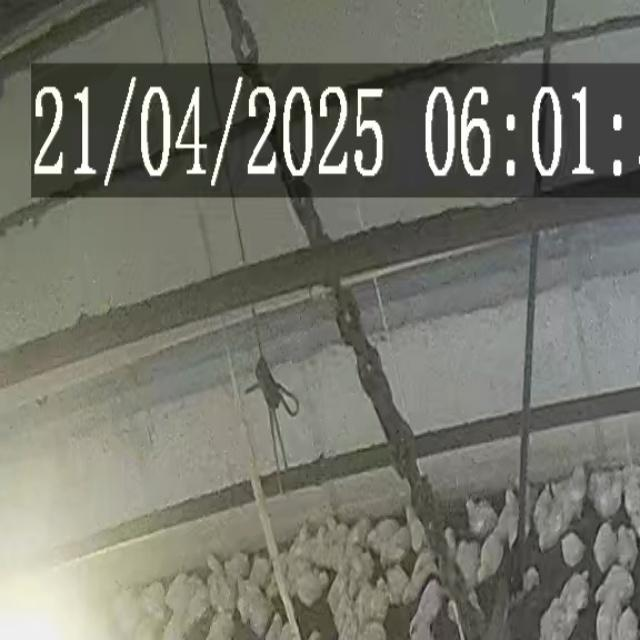chicken: (536, 499, 572, 552), (402, 553, 437, 604), (554, 466, 588, 516), (539, 596, 577, 639), (593, 568, 637, 603), (205, 554, 232, 606), (479, 531, 505, 584), (559, 569, 591, 611), (138, 582, 170, 622), (379, 528, 410, 569), (497, 489, 519, 545), (167, 571, 193, 618), (594, 480, 624, 520), (297, 572, 329, 609), (594, 522, 616, 573), (616, 523, 639, 571), (387, 562, 410, 608), (205, 605, 234, 640), (464, 499, 493, 533), (456, 539, 478, 582), (249, 591, 270, 636), (560, 532, 586, 568), (238, 578, 258, 624), (367, 518, 395, 550), (370, 578, 391, 620), (406, 505, 426, 549), (281, 556, 311, 584), (615, 606, 639, 640), (345, 518, 369, 552), (534, 484, 554, 524), (304, 526, 326, 562), (598, 603, 619, 640), (225, 551, 249, 583), (190, 576, 208, 618), (355, 583, 372, 620), (326, 515, 345, 547), (358, 621, 389, 640), (251, 557, 269, 588), (290, 524, 302, 559)
